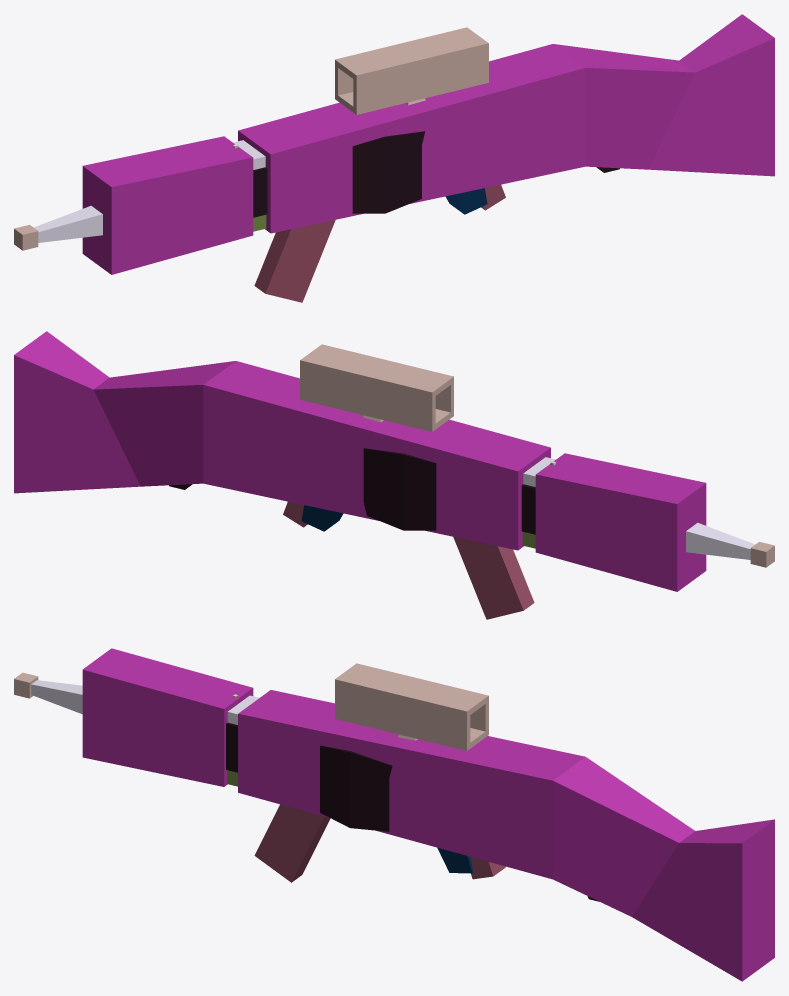
The model's file is Weapons_Model.fbx.
3 renders of one model, top to bottom at view 1: azimuth 30°, elevation 25°; view 2: azimuth 150°, elevation 25°; view 3: azimuth 330°, elevation 25°, orthographic.
Visible parts, largest first — view 1: Sniper, Rifle, Pistol; view 2: Sniper, Rifle, Pistol; view 3: Sniper, Rifle, Pistol.
Boxes of the visible parts, box(x1,y1,x2,y2) form: Sniper: box(14, 14, 774, 274); Rifle: box(235, 131, 619, 302); Pistol: box(445, 188, 487, 214); Sniper: box(14, 331, 774, 591); Rifle: box(169, 448, 552, 619); Pistol: box(301, 505, 343, 531); Sniper: box(14, 648, 774, 981); Rifle: box(226, 695, 599, 901); Pistol: box(437, 847, 473, 873).
Size of the model in its own units: 470 by 133 by 39.2.
